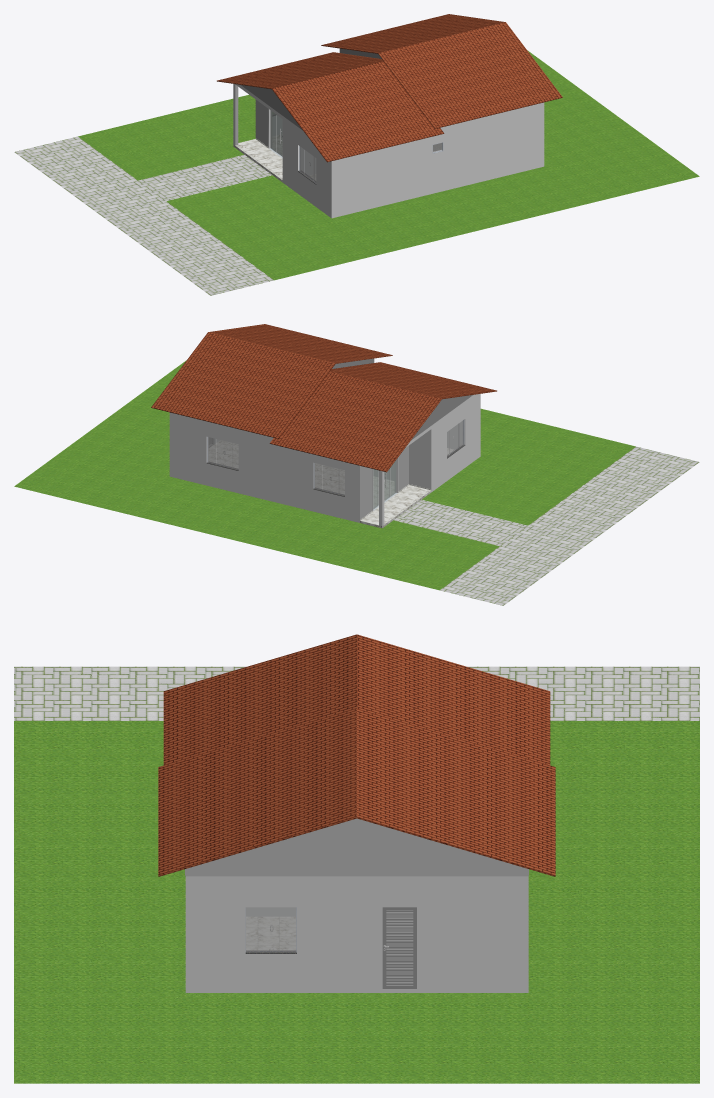
The model's file is casa_modelo_2.glb.
The picture shows the model from 3 angles, top to bottom: view 1: azimuth 30°, elevation 25°; view 2: azimuth 150°, elevation 25°; view 3: azimuth 270°, elevation 25°; orthographic projection. The views are drawn at different scales.
Parts seen in each view (by area): view 1: Material3 (×6), Material2 (×3), Material4; view 2: Material3 (×6), Material2 (×4), Material4; view 3: Material3 (×4), Material2 (×3), Material4.
Boxes of the visible parts, <box> form: Material3 (×6): <box>14,48,699,295</box>; Material2 (×3): <box>217,14,562,182</box>; Material4: <box>233,134,315,182</box>; Material3 (×6): <box>14,358,699,605</box>; Material2 (×4): <box>151,324,496,508</box>; Material4: <box>209,440,452,528</box>; Material3 (×4): <box>14,666,699,1083</box>; Material2 (×3): <box>158,634,555,988</box>; Material4: <box>246,917,295,949</box>.
Bounding box in the file's own units: 906 × 187 × 630.
Materials: 30 (13 with a texture image).
